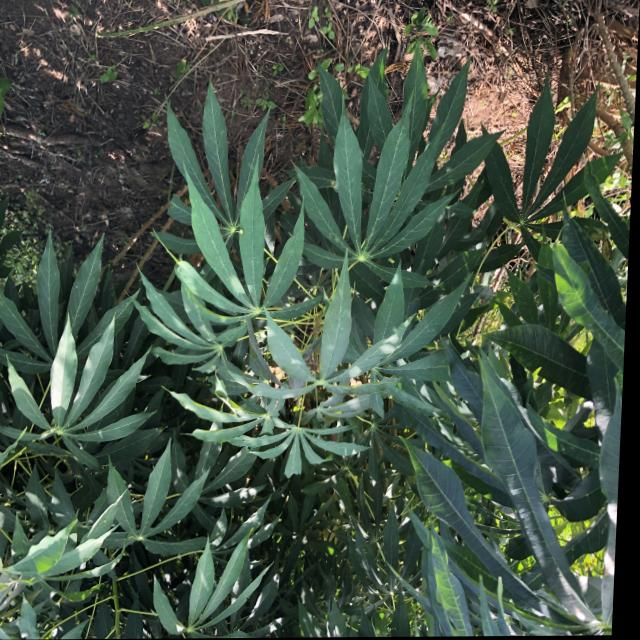Mosca: (320, 402, 345, 420), (382, 387, 402, 407), (232, 221, 249, 242), (385, 250, 399, 271), (93, 420, 107, 439)
